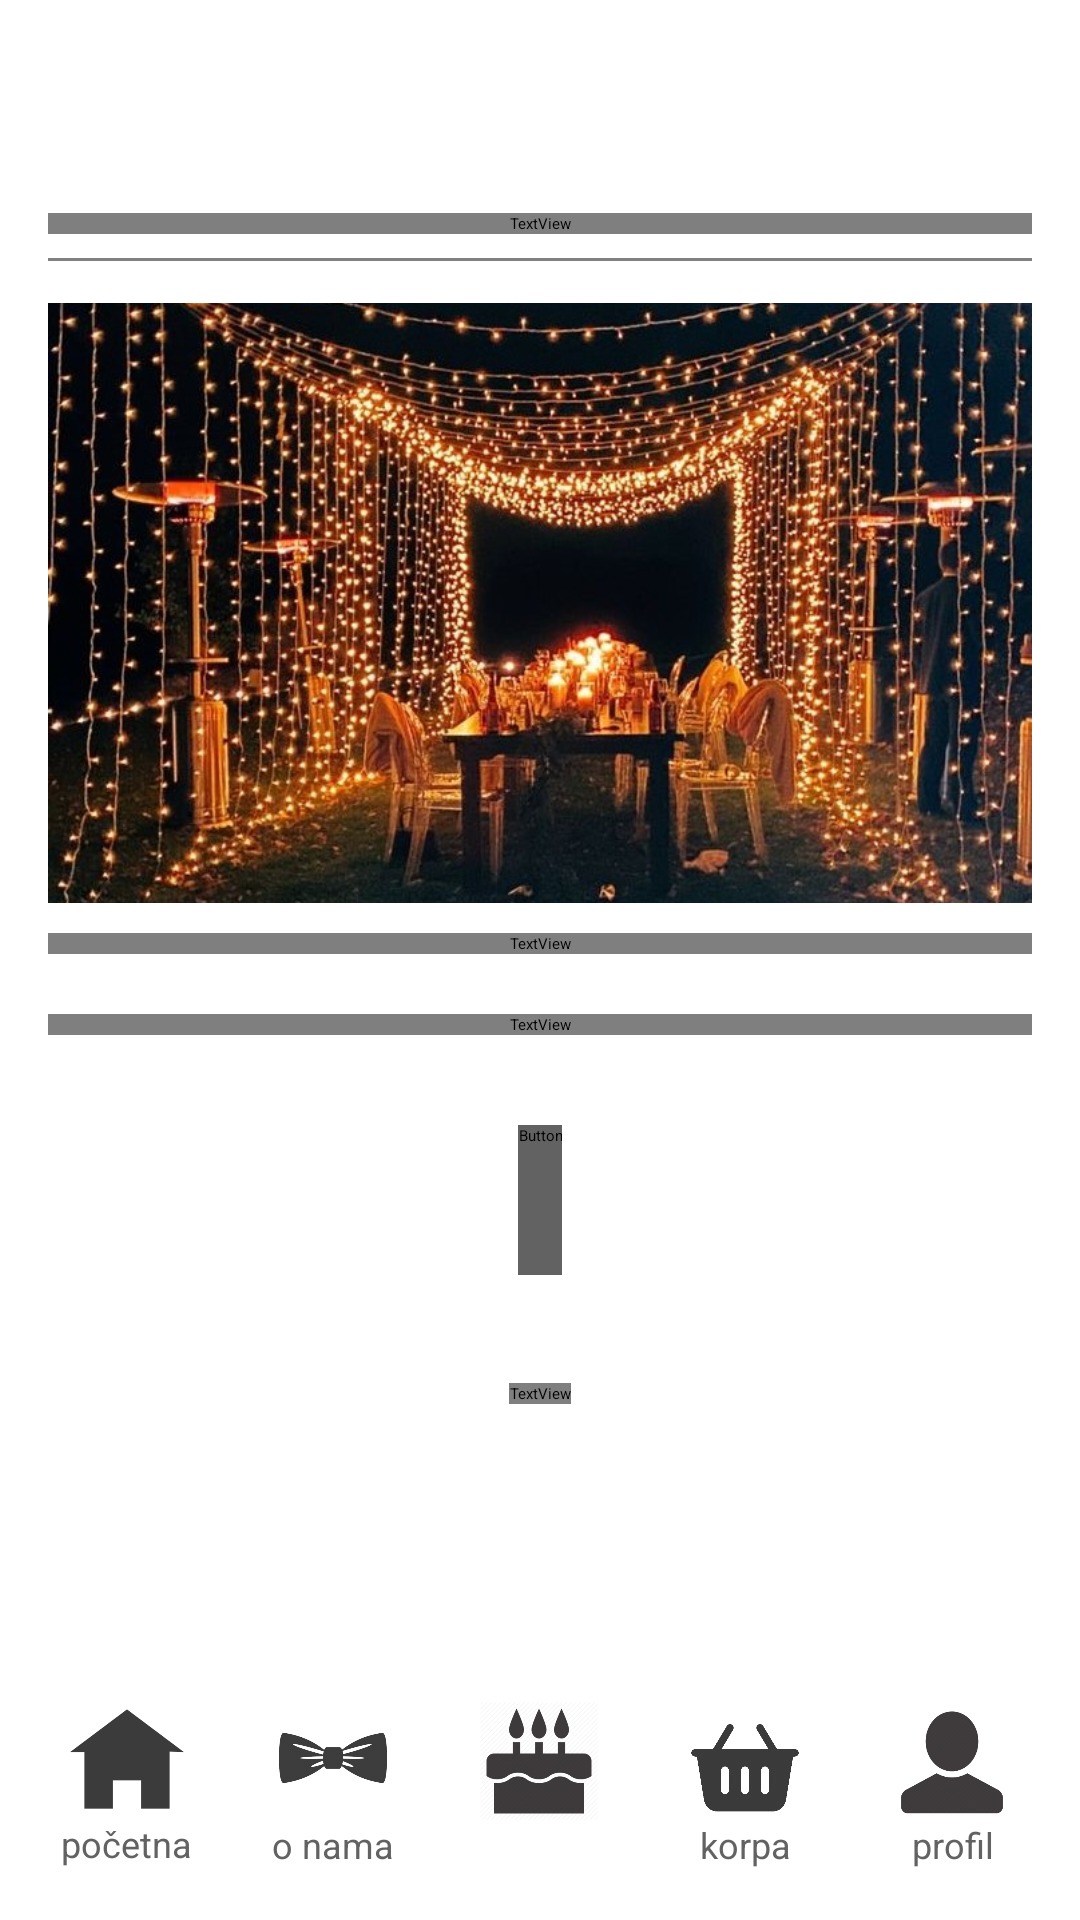

Icons on this 1080px x 1920px Android screen, each with the point to tap as (x=x, y=y):
bow: (x=333, y=1758)
cake: (x=539, y=1761)
